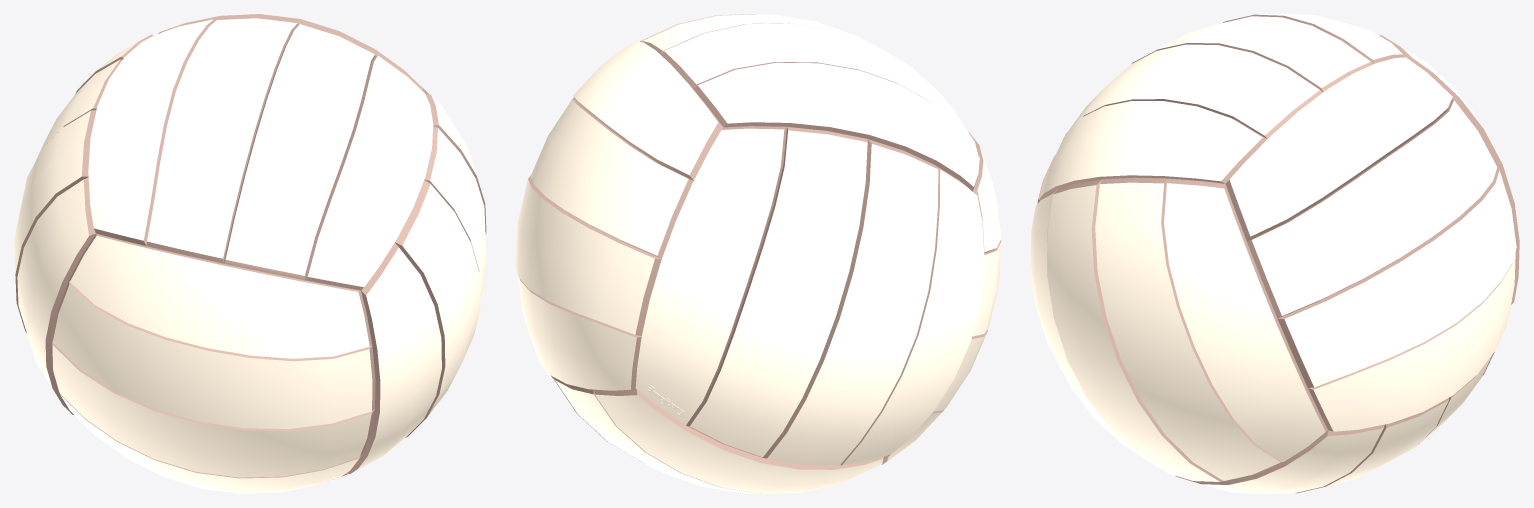
The model's file is volleyball.gltf.
3 renders of one model, left to right at view 1: azimuth 30°, elevation 25°; view 2: azimuth 150°, elevation 25°; view 3: azimuth 270°, elevation 25°, orthographic. The views are drawn at different scales.
Visible parts, largest first — view 1: Cube.811; view 2: Cube.811; view 3: Cube.811.
Boxes of the visible parts, left/top/right/bottom form: Cube.811: left=14, top=14, right=486, bottom=493; Cube.811: left=515, top=14, right=1001, bottom=493; Cube.811: left=1030, top=14, right=1519, bottom=493.
Size of the model in its own units: 2.3 by 2.25 by 2.3.
Materials: 1 (1 with a texture image).
